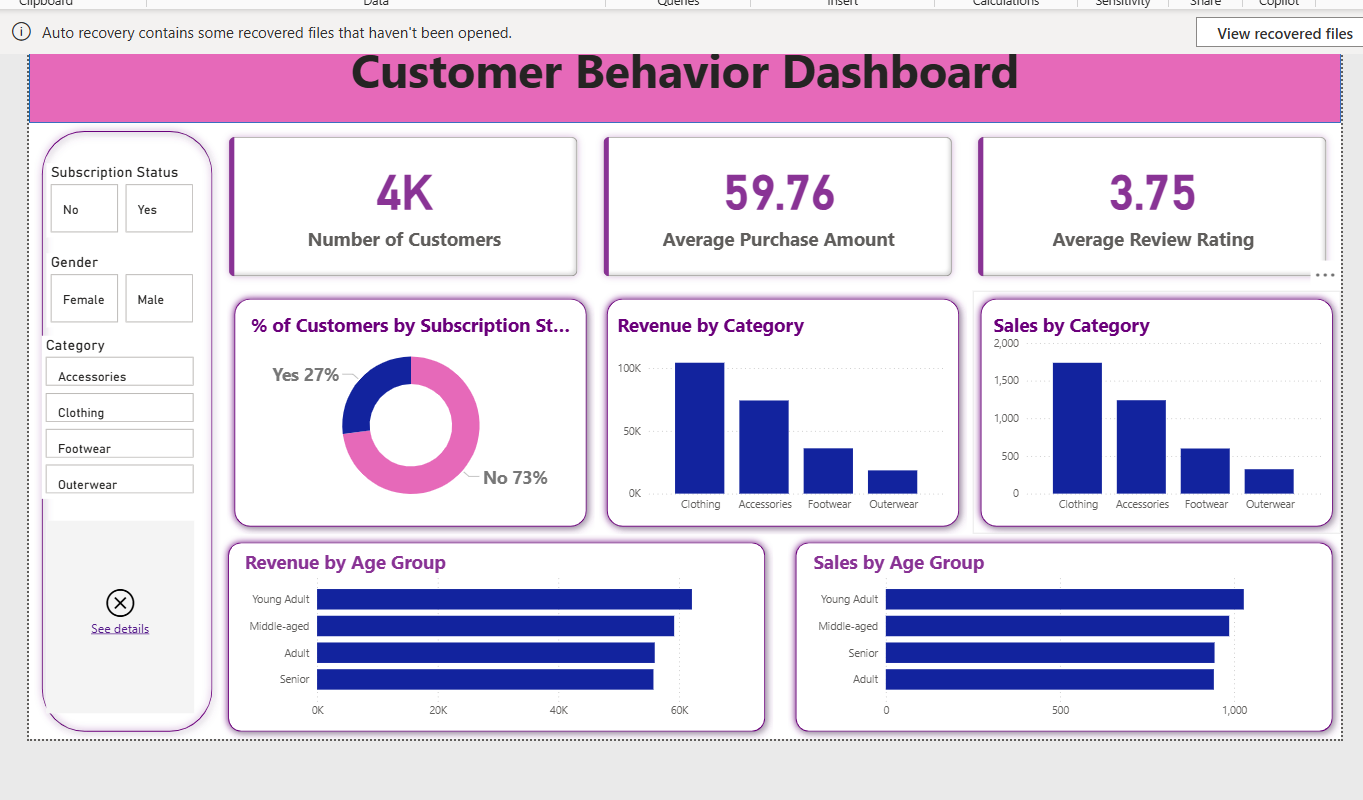

The dashboard page shown, as its layout file describes it:
{"tool":"powerbi","page":{"name":"Page 1","canvas":[1500,820],"ordinal":0},"visuals":[{"type":"cardVisual","fields":{"Data":["public customer.Number of Customers","public customer.Average Purchase Amount","public customer.Average Review Rating"]},"box":[212.9,115.3,1286.5,191.6],"z":2000},{"type":"shape","box":[218.3,585.6,631.7,234.2],"z":2500,"group":"g1"},{"type":"shape","box":[0,0,1499.4,115.3],"z":3000},{"type":"textbox","box":[0,12.4,1499.4,102.9],"z":4000},{"type":"shape","box":[225.4,307,420.5,278.6],"z":5000},{"type":"donutChart","title":"% of Customers by Subscription Status","fields":{"Category":["public customer.subscription_status"],"Y":["CountNonNull(public customer.customer_id)"]},"box":[248.4,331.8,376.2,237.8],"z":6000},{"type":"shape","box":[1078.9,307,420.5,278.6],"z":7000},{"type":"shape","box":[652.1,307,420.5,278.6],"z":8000},{"type":"clusteredColumnChart","title":"Revenue by Category","fields":{"Y":["Sum(public customer.purchase_amount)"],"Category":["public customer.category"]},"box":[667.2,331.8,385.1,237.8],"z":9000},{"type":"clusteredColumnChart","title":"Sales by Category","fields":{"Y":["CountNonNull(public customer.customer_id)"],"Category":["public customer.category"]},"box":[1096.6,331.8,385.1,237.8],"z":10000},{"type":"shape","box":[5.7,115.7,212.9,704.3],"z":11000},{"type":"advancedSlicerVisual","fields":{"Values":["public customer.subscription_status"]},"box":[19.5,161.5,173.9,85.2],"z":12000},{"type":"advancedSlicerVisual","fields":{"Values":["public customer.gender"]},"box":[19.5,264.4,173.9,85.2],"z":13000},{"type":"advancedSlicerVisual","fields":{"Values":["public customer.category"]},"box":[14.2,358.4,179.2,186.3],"z":14000},{"type":"listSlicer","fields":{"Values":["public customer.shipping_type"]},"box":[19.5,569.6,168.6,220],"z":15000},{"type":"shape","box":[867.7,585.6,631.7,234.2],"z":16000},{"type":"clusteredBarChart","title":"Sales by Age Group","fields":{"Y":["CountNonNull(public customer.customer_id)"],"Category":["public customer.age_group"]},"box":[890.8,601.5,585.6,204.1],"z":17000},{"type":"clusteredBarChart","title":"Revenue by Age Group","fields":{"Y":["Sum(public customer.purchase_amount)"],"Category":["public customer.age_group"]},"box":[241.4,601.6,585.6,204.1],"z":17500,"group":"g1"},{"type":"group","id":"g1","title":"Group 1","box":[218.3,585.6,631.7,234.2],"z":17501}]}

Visuals, with their boxes in screenshot pixels (x1, y1, x2, y2):
cardVisual - public customer.Number of Customers x public customer.Average Purchase Amount: 223/125/1335/290
shape: 228/531/774/733
shape: 39/25/1335/125
textbox: 39/36/1335/125
shape: 234/290/597/531
"% of Customers by Subscription Status" donutChart: 254/312/579/517
shape: 972/290/1335/531
shape: 603/290/966/531
"Revenue by Category" clusteredColumnChart: 616/312/949/517
"Sales by Category" clusteredColumnChart: 987/312/1320/517
shape: 44/125/228/734
advancedSlicerVisual - public customer.subscription_status: 56/164/206/238
advancedSlicerVisual - public customer.gender: 56/253/206/327
advancedSlicerVisual - public customer.category: 51/335/206/496
listSlicer - public customer.shipping_type: 56/517/202/707
shape: 789/531/1335/733
"Sales by Age Group" clusteredBarChart: 809/545/1315/721
"Revenue by Age Group" clusteredBarChart: 248/545/754/721
"Group 1" group: 228/531/774/733
